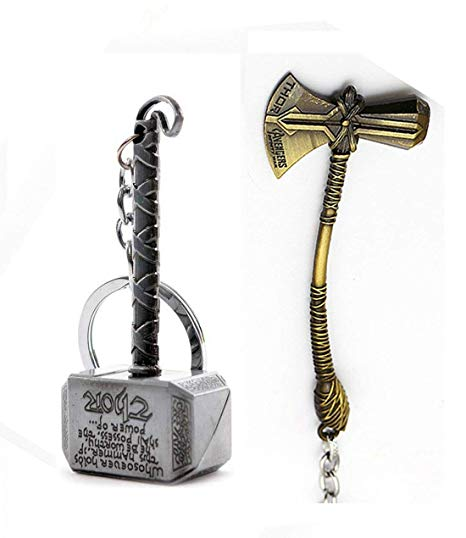THOR Hammer: (54, 78, 242, 477), (261, 67, 451, 460)
